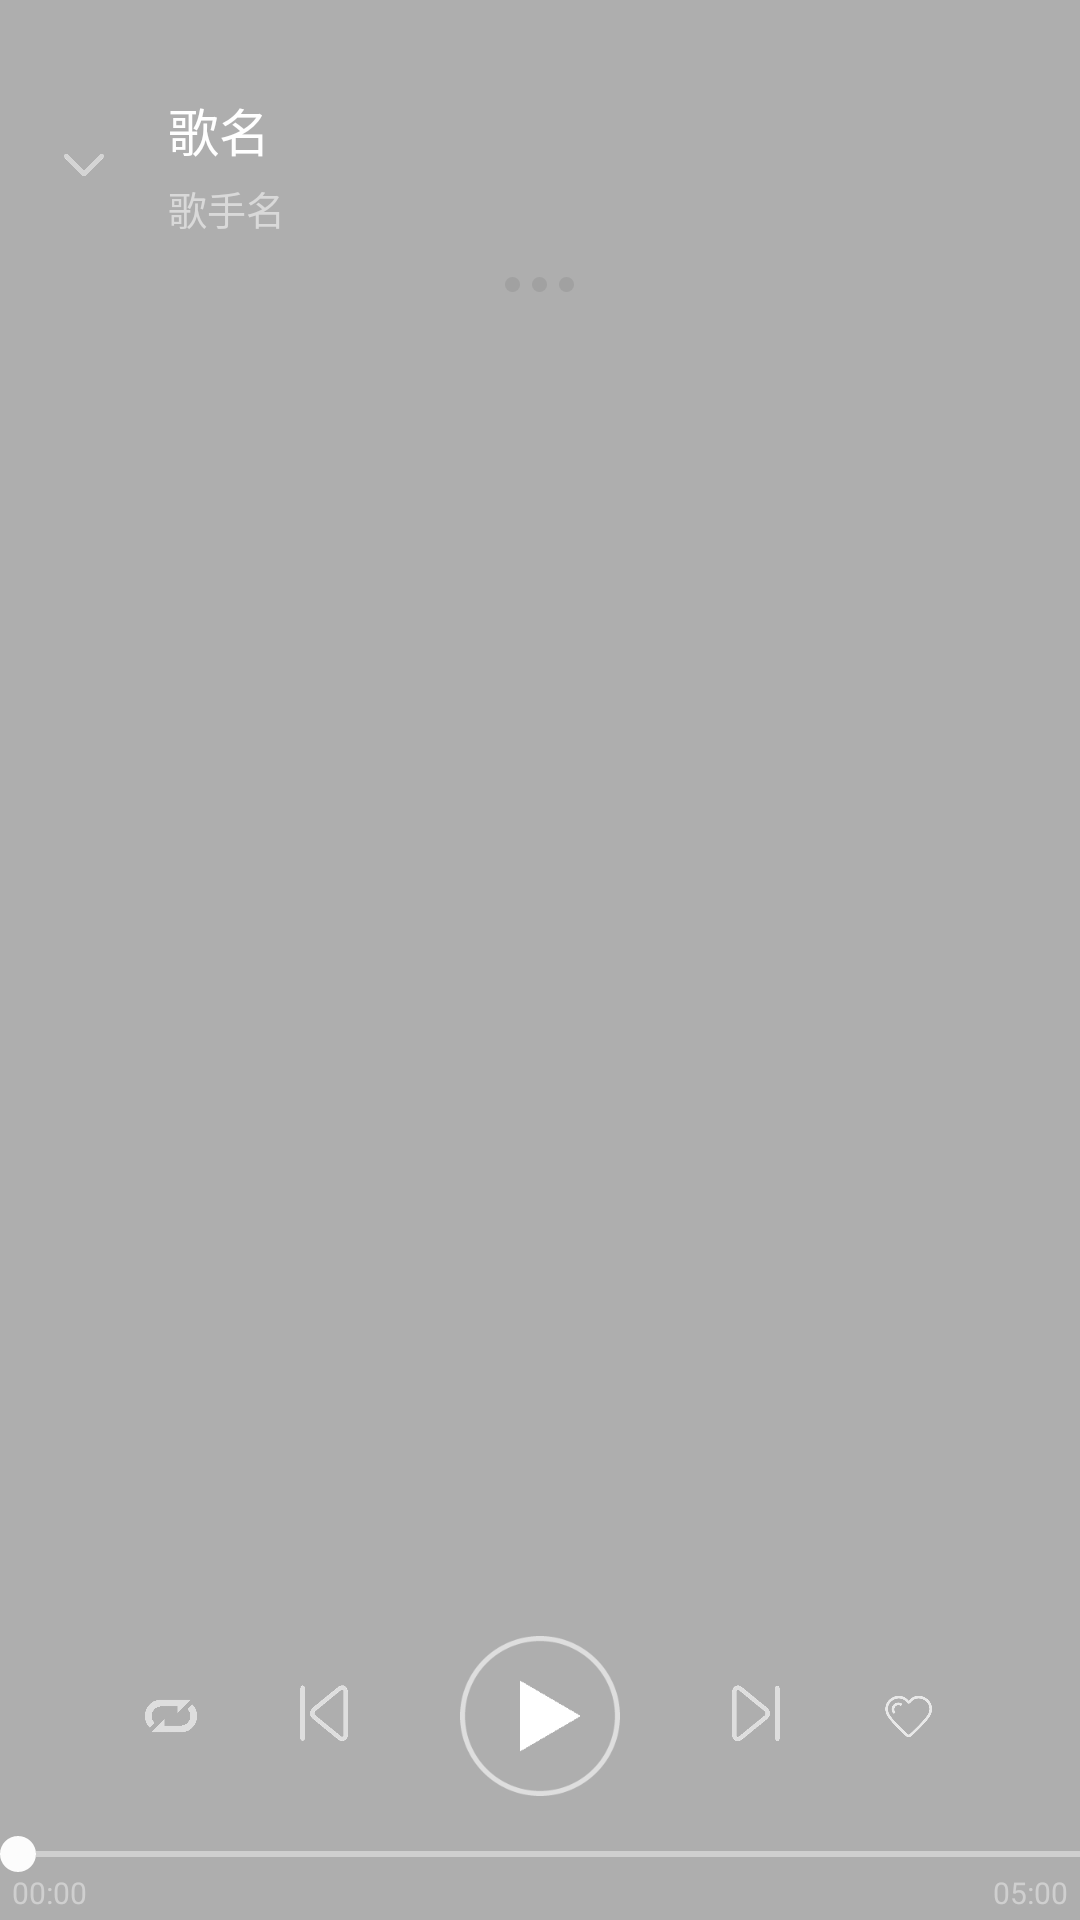

Icon click points for this 1080px×1920px phone screenshot, format (x,y):
arrow down: (84,165)
music play last: (324,1713)
music play mode order: (171,1716)
music play next: (756,1713)
music play not: (540,1716)
music play not love: (908,1716)
